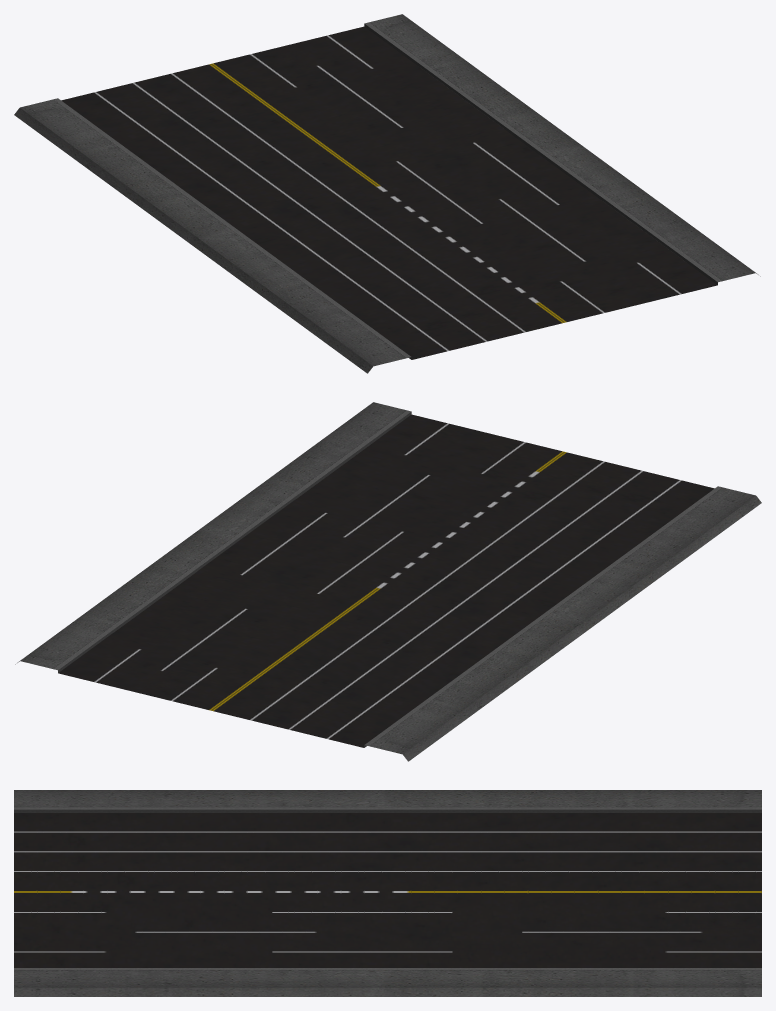
Rendered from RJs_Road 4+4 Basic Segment_UT.fbx.
The picture shows the model from 3 angles, top to bottom: view 1: azimuth 30°, elevation 25°; view 2: azimuth 150°, elevation 25°; view 3: azimuth 270°, elevation 25°; orthographic projection. The views are drawn at different scales.
Visible parts, largest first — view 1: plane; view 2: plane; view 3: plane.
Boxes of the visible parts, bbox=[...] form: plane: bbox=[14, 14, 760, 373]; plane: bbox=[15, 402, 761, 761]; plane: bbox=[14, 790, 761, 996].
Bounding box in the file's own units: 4120 × 60.1 × 6400.
